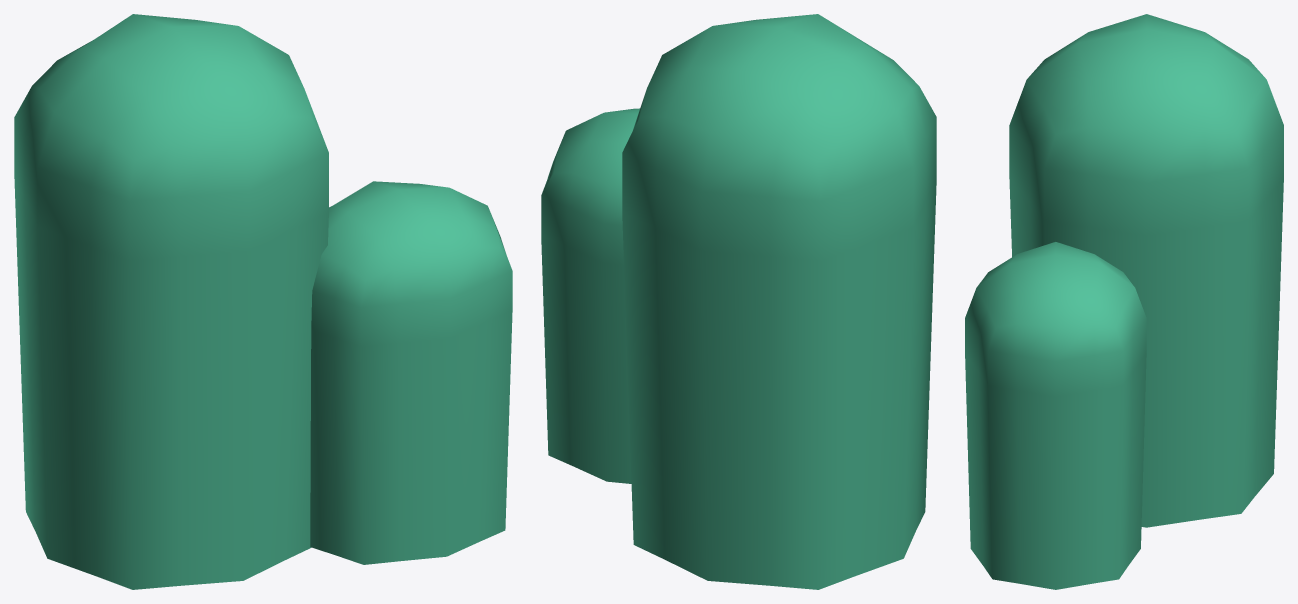
Rendered from CilinderPlant.fbx.
3 views of the same model, side by side, from view 1: azimuth 30°, elevation 25°; view 2: azimuth 150°, elevation 25°; view 3: azimuth 270°, elevation 25° (orthographic). The views are drawn at different scales.
Visible parts, largest first — view 1: pCube16; view 2: pCube16; view 3: pCube16.
Boxes of the visible parts, x1=… form: pCube16: x1=14, y1=14, x2=512, y2=589; pCube16: x1=541, y1=14, x2=936, y2=589; pCube16: x1=965, y1=14, x2=1283, y2=589.
Size of the model in its own units: 4.74 by 5.52 by 3.59.
